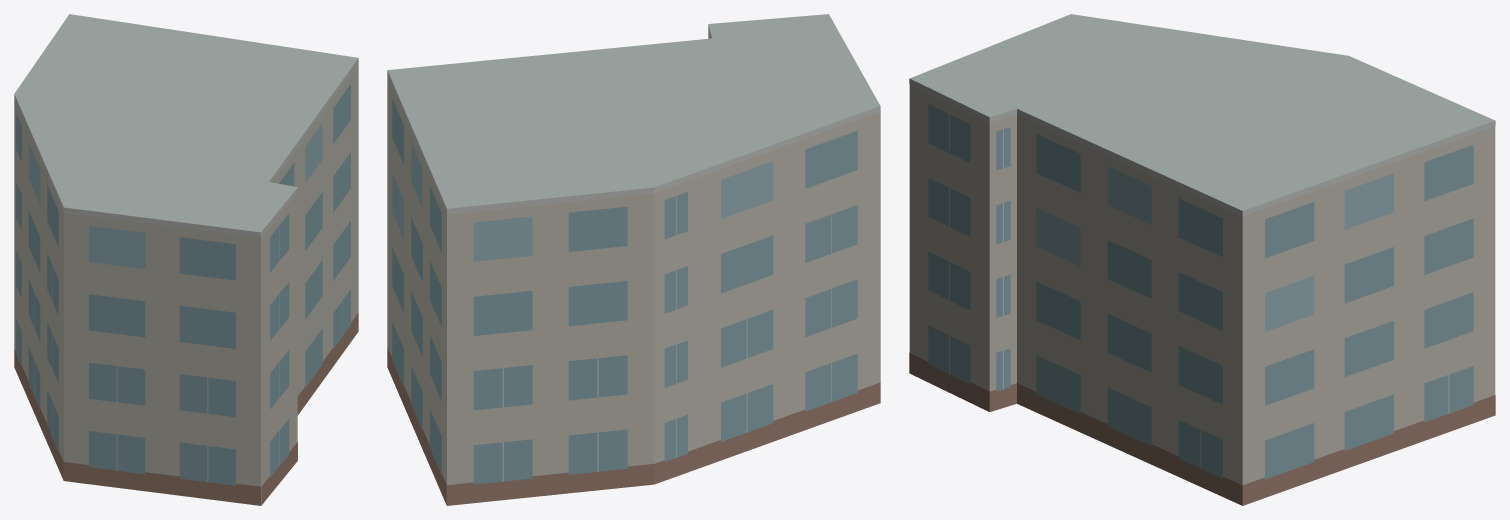
The model's file is survey-upis-32835157.glb.
3 renders of one model, left to right at view 1: azimuth 30°, elevation 25°; view 2: azimuth 150°, elevation 25°; view 3: azimuth 270°, elevation 25°, orthographic. The views are drawn at different scales.
Visible parts, largest first — view 1: survey-upis-32835157.tmp; view 2: survey-upis-32835157.tmp; view 3: survey-upis-32835157.tmp.
Boxes of the visible parts, box(x1,y1,x2,y2) form: survey-upis-32835157.tmp: box(14, 14, 358, 505); survey-upis-32835157.tmp: box(387, 14, 880, 505); survey-upis-32835157.tmp: box(909, 14, 1495, 505).
Size of the model in its own units: 18.2 by 12.7 by 22.88.
